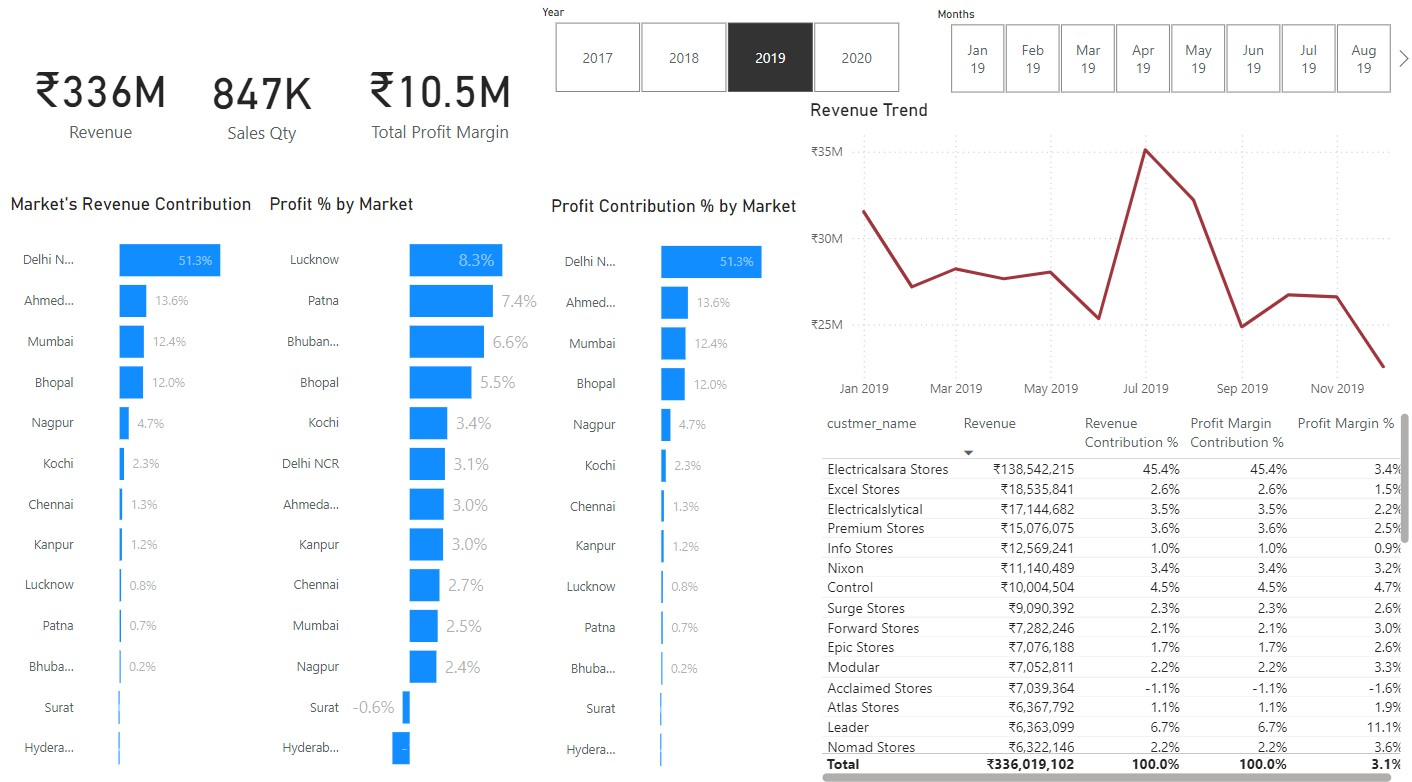

Layout of this report page (visuals, bound fields, positions):
{"tool":"powerbi","page":{"name":"Profit Analysis","canvas":[1350,750],"ordinal":1},"visuals":[{"type":"card","fields":{"Values":["BaseMeasures.Revenue"]},"box":[0,0,195,186.7],"z":0},{"type":"card","fields":{"Values":["BaseMeasures.Sales Qty"]},"box":[167.2,1.6,168.8,186.1],"z":1000},{"type":"barChart","title":"Profit % by Market","fields":{"Category":["sales markets.markets_name"],"Y":["BaseMeasures.Profit Margin %"]},"box":[253.2,184.8,268.4,564.6],"z":2000},{"type":"slicer","fields":{"Values":["sales date.year"]},"box":[504.7,0,376.9,94.6],"z":3000},{"type":"slicer","fields":{"Values":["sales date.cy_date"]},"box":[881.6,1.6,468.4,93],"z":4000},{"type":"tableEx","title":"Top 5 Customers","fields":{"Values":["sales customers.custmer_name","BaseMeasures.Revenue","BaseMeasures.Revenue Contribution %","BaseMeasures.Profit Margin Contribution %","BaseMeasures.Profit Margin %"]},"box":[768.3,388.3,571.7,361.7],"z":5000},{"type":"lineChart","title":"Revenue Trend","fields":{"Y":["BaseMeasures.Revenue"],"Category":["sales date.cy_date.Variation.Date Hierarchy.Year","sales date.cy_date.Variation.Date Hierarchy.Quarter","sales date.cy_date.Variation.Date Hierarchy.Month","sales date.cy_date.Variation.Date Hierarchy.Day"]},"box":[768,94.6,582,293.3],"z":6000},{"type":"card","fields":{"Values":["BaseMeasures.Total Profit Margin"]},"box":[336.7,0,168.3,186.7],"z":7000},{"type":"barChart","title":"Profit Contribution % by Market","fields":{"Y":["BaseMeasures.Profit Margin Contribution %"],"Category":["sales markets.markets_name"]},"box":[522,186.1,246,564.6],"z":8000},{"type":"barChart","title":"Market''s Revenue Contribution","fields":{"Y":["BaseMeasures.Revenue Contribution %"],"Category":["sales markets.markets_name"]},"box":[6.3,184.8,245.6,564.6],"z":9000}]}

Visuals, with their boxes in screenshot pixels (x1, y1, x2, y2), scaled from the page's 1350x750 canvas onto the 1412x782 screenshot:
card - BaseMeasures.Revenue: l=0, t=0, r=204, b=195
card - BaseMeasures.Sales Qty: l=175, t=2, r=351, b=196
"Profit % by Market" barChart: l=265, t=193, r=546, b=781
slicer - sales date.year: l=528, t=0, r=922, b=99
slicer - sales date.cy_date: l=922, t=2, r=1411, b=99
"Top 5 Customers" tableEx: l=804, t=405, r=1402, b=781
"Revenue Trend" lineChart: l=803, t=99, r=1411, b=404
card - BaseMeasures.Total Profit Margin: l=352, t=0, r=528, b=195
"Profit Contribution % by Market" barChart: l=546, t=194, r=803, b=781
"Market''s Revenue Contribution" barChart: l=7, t=193, r=263, b=781
